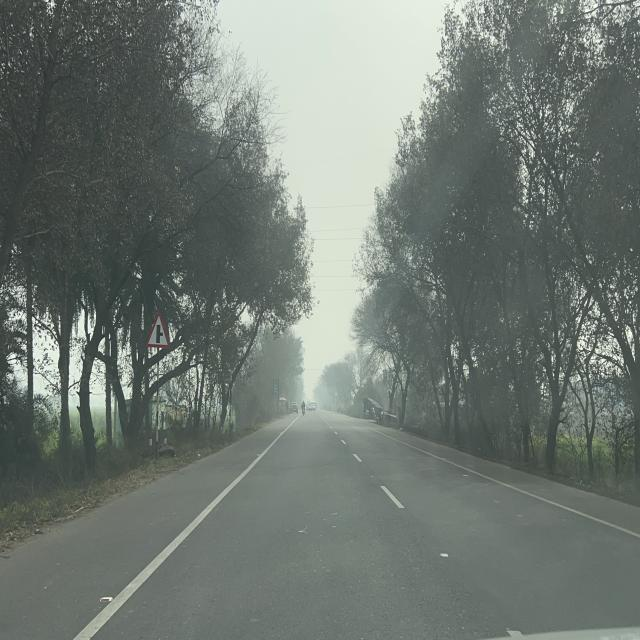SIDE_ROAD_RIGHT: (145, 309, 171, 349)
